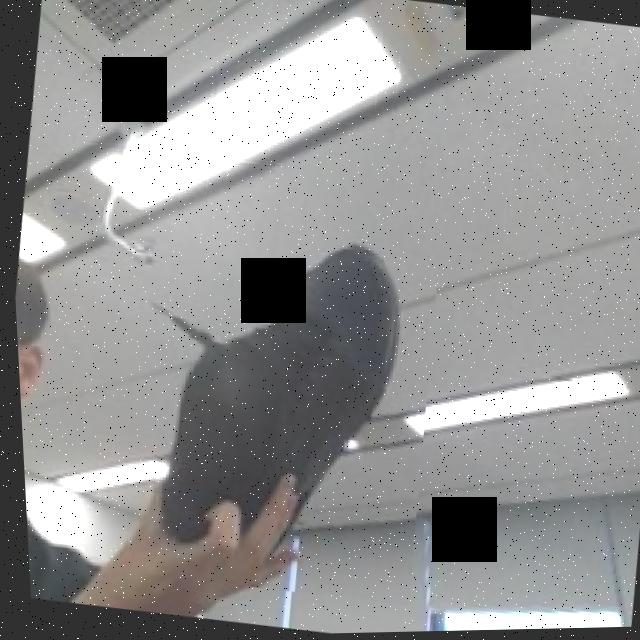shoe: (99, 149, 461, 612)
